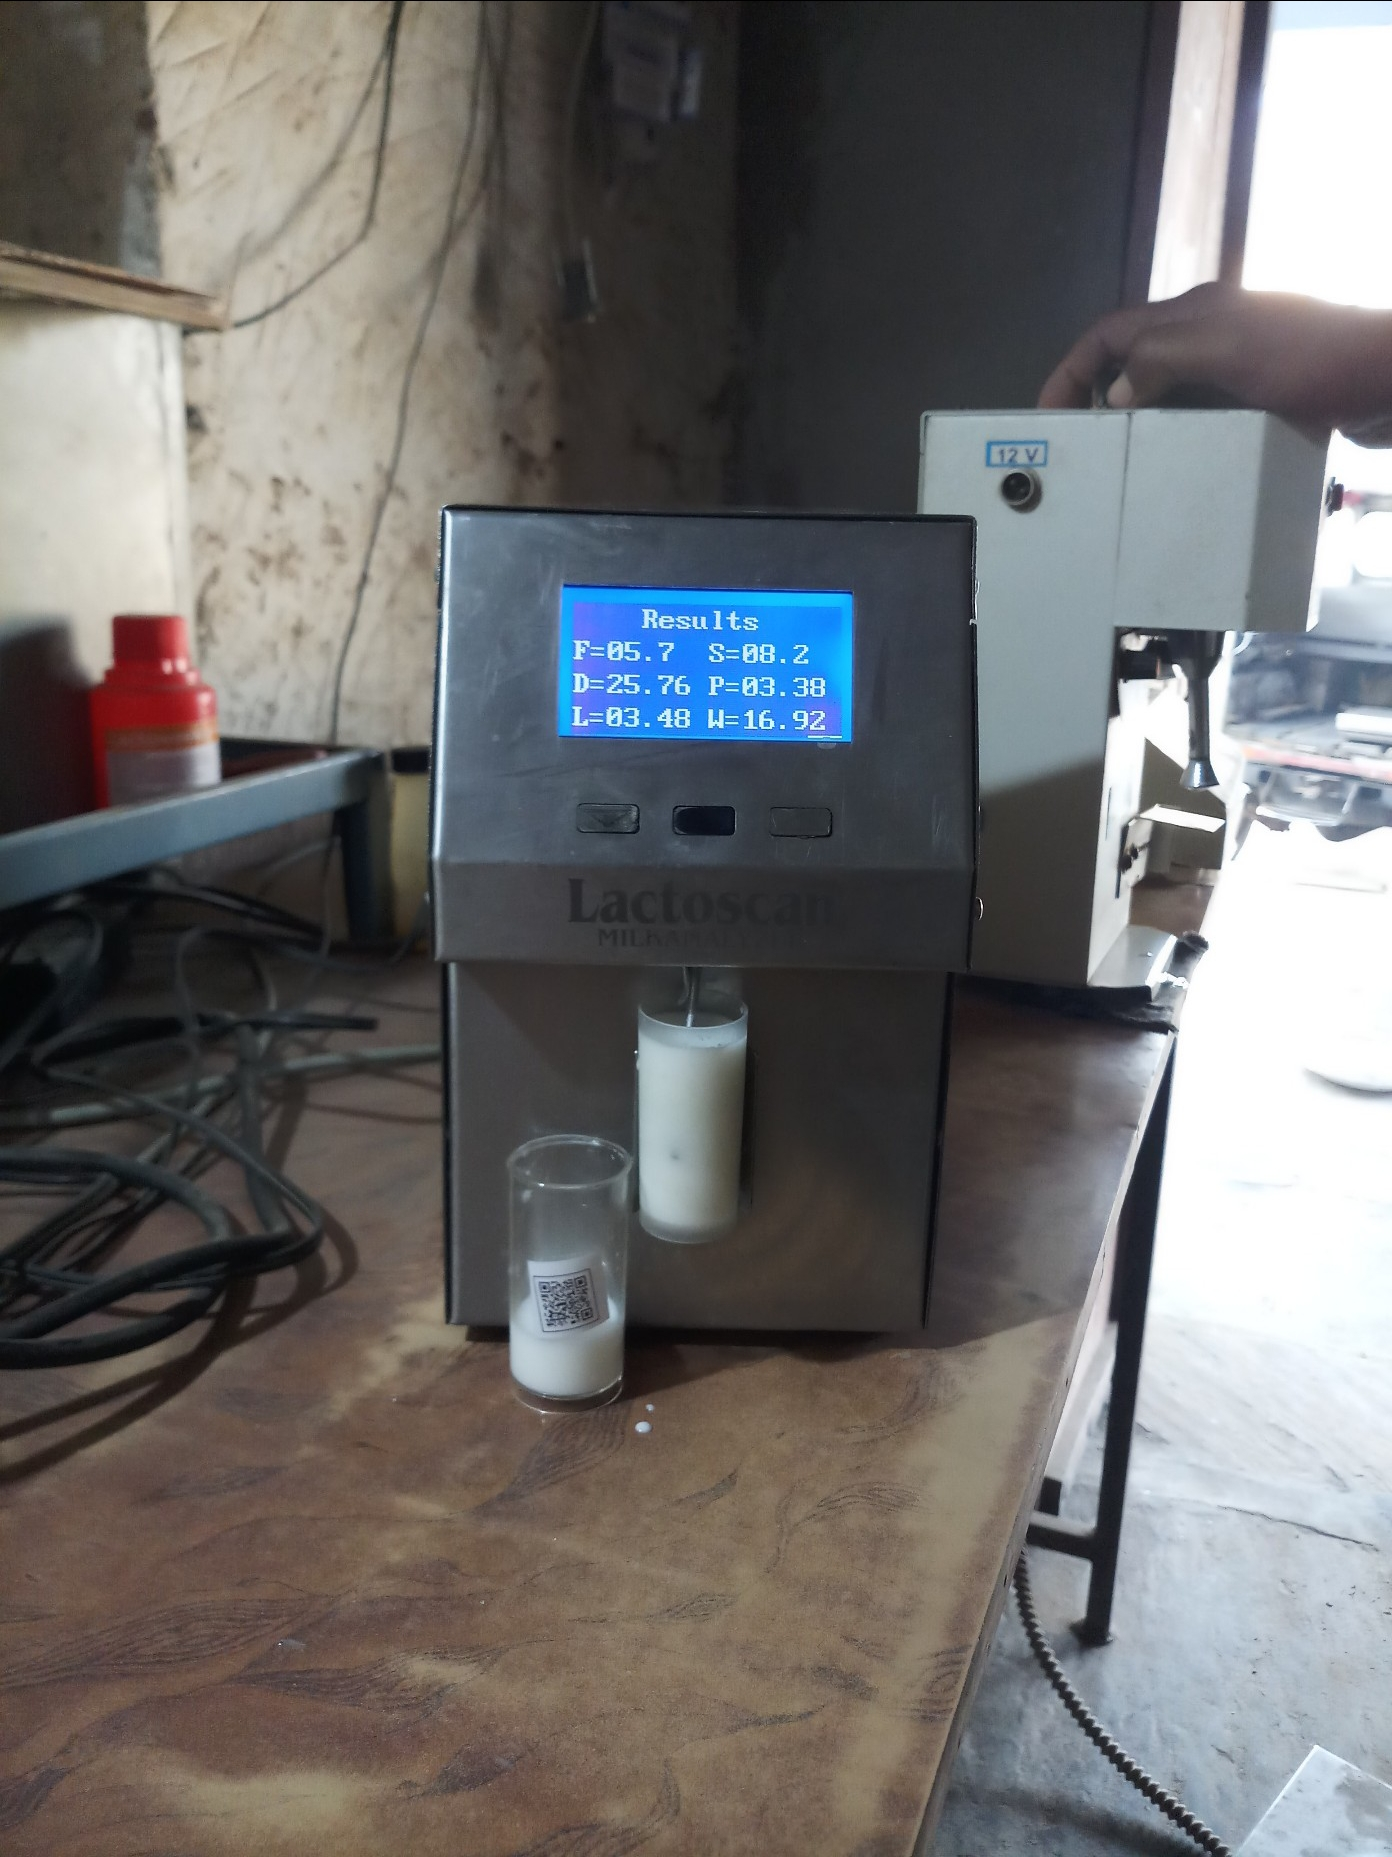lcd: (531, 573, 883, 768)
qr: (503, 1262, 627, 1351)
